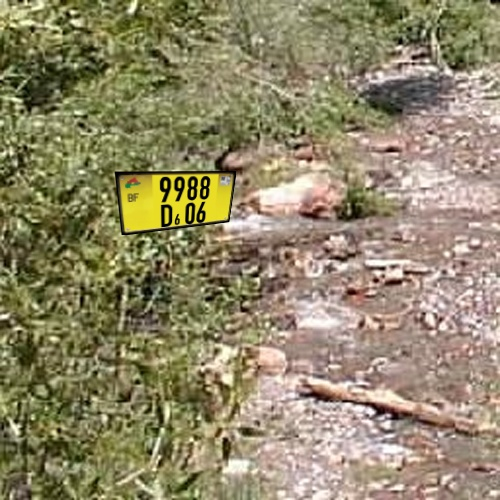plate: (105, 162, 248, 246)
